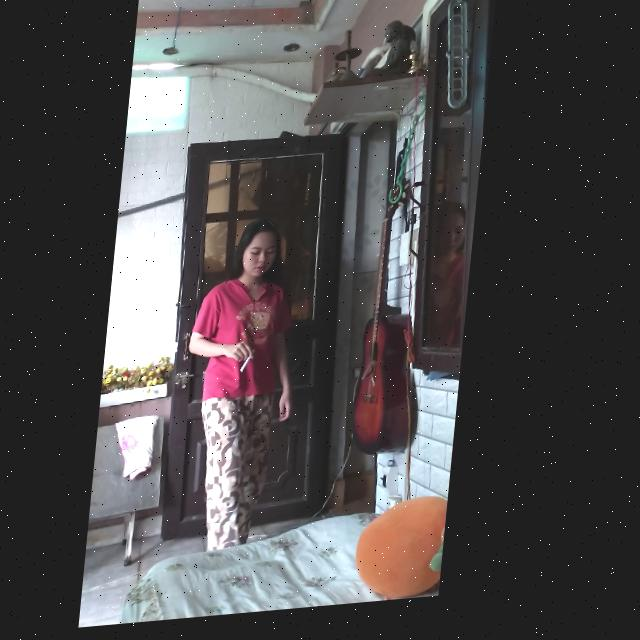cigarette: (247, 355, 263, 378)
